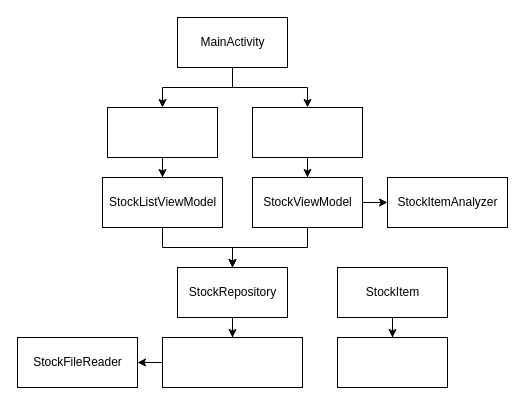
Some shapes in this 525 by 405 pixel diagram are drawn without their labels. Here are the shapes that lost their labels. From the top down, the centre of each, then its label:
At point (162, 132): "StockListFragment".
At point (307, 132): "StockFragment".
At point (232, 362): "StockStorageHandler".
At point (392, 362): "StockStatistic".
